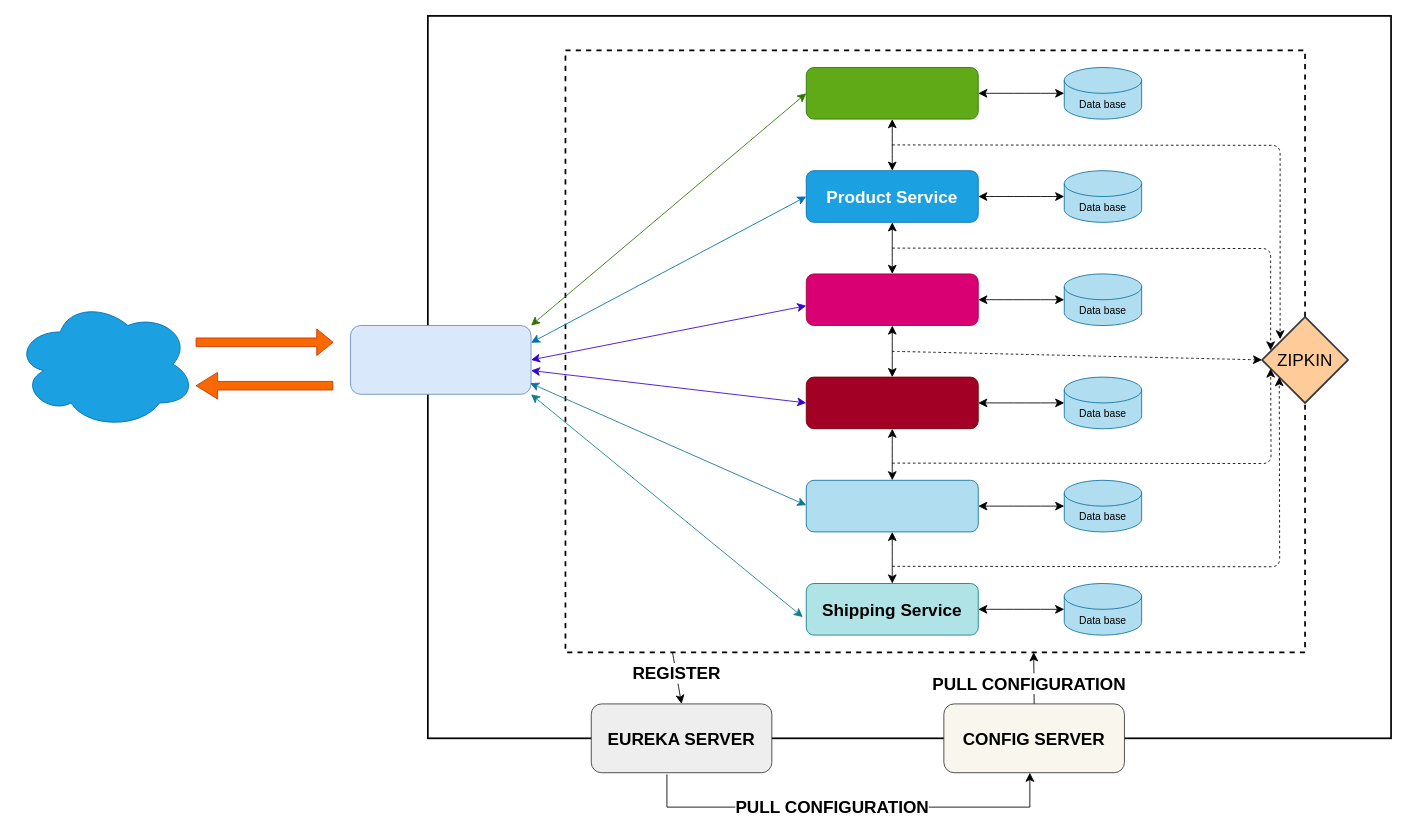
Some shapes in this 1407 by 831 pixel diagram are drawn without their labels. The centre of each missing label's shape, as x and y in pixels:
"API GATEWAY" goes at (x=440, y=359).
"Cart Service" goes at (x=891, y=402).
"CLIENT" goes at (x=105, y=364).
"Order Service" goes at (x=891, y=299).
"Payment Service" goes at (x=891, y=505).
"User Service" goes at (x=891, y=93).
